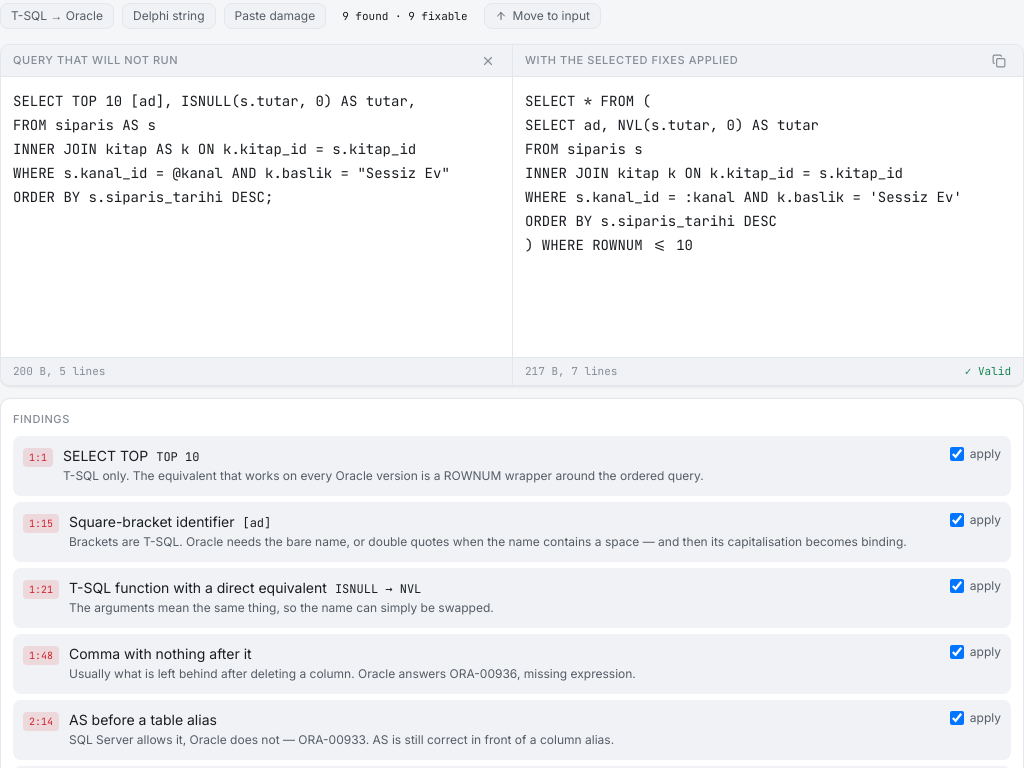
Test: SqlFixTool › girdi boşken hata gösterir
Clear the text box labelled "Query that will not run" at (256, 217), box [1,77,512,357]
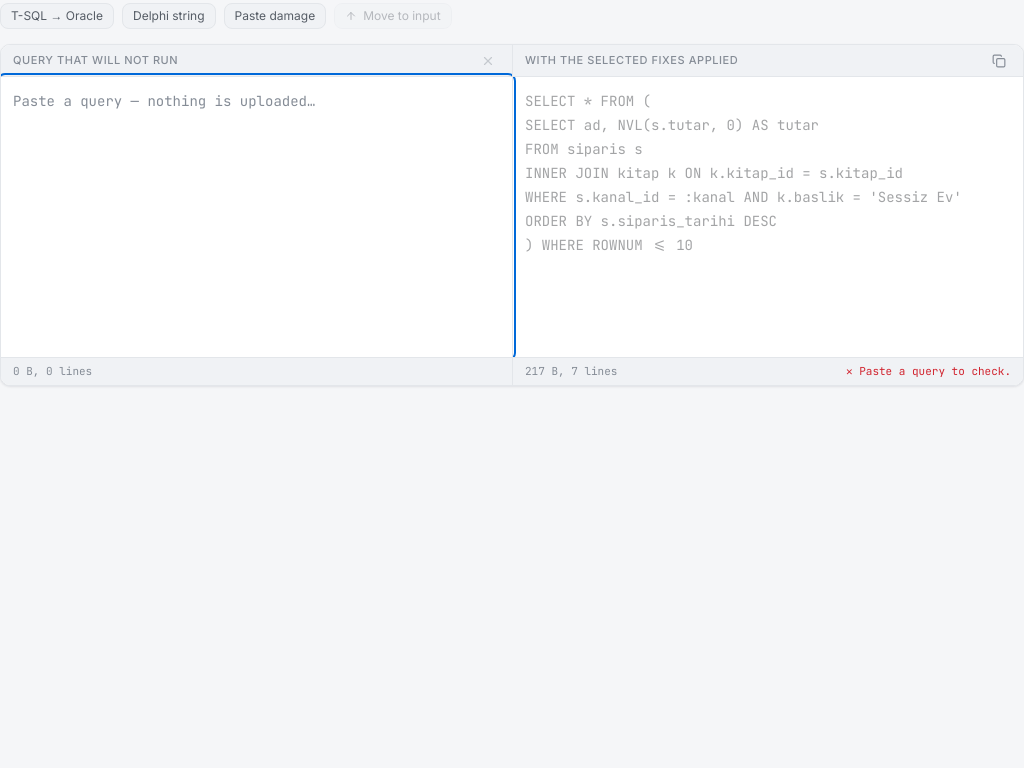
Now the text "✕ Paste a query to check." is shown, box [846,364,1011,378]
